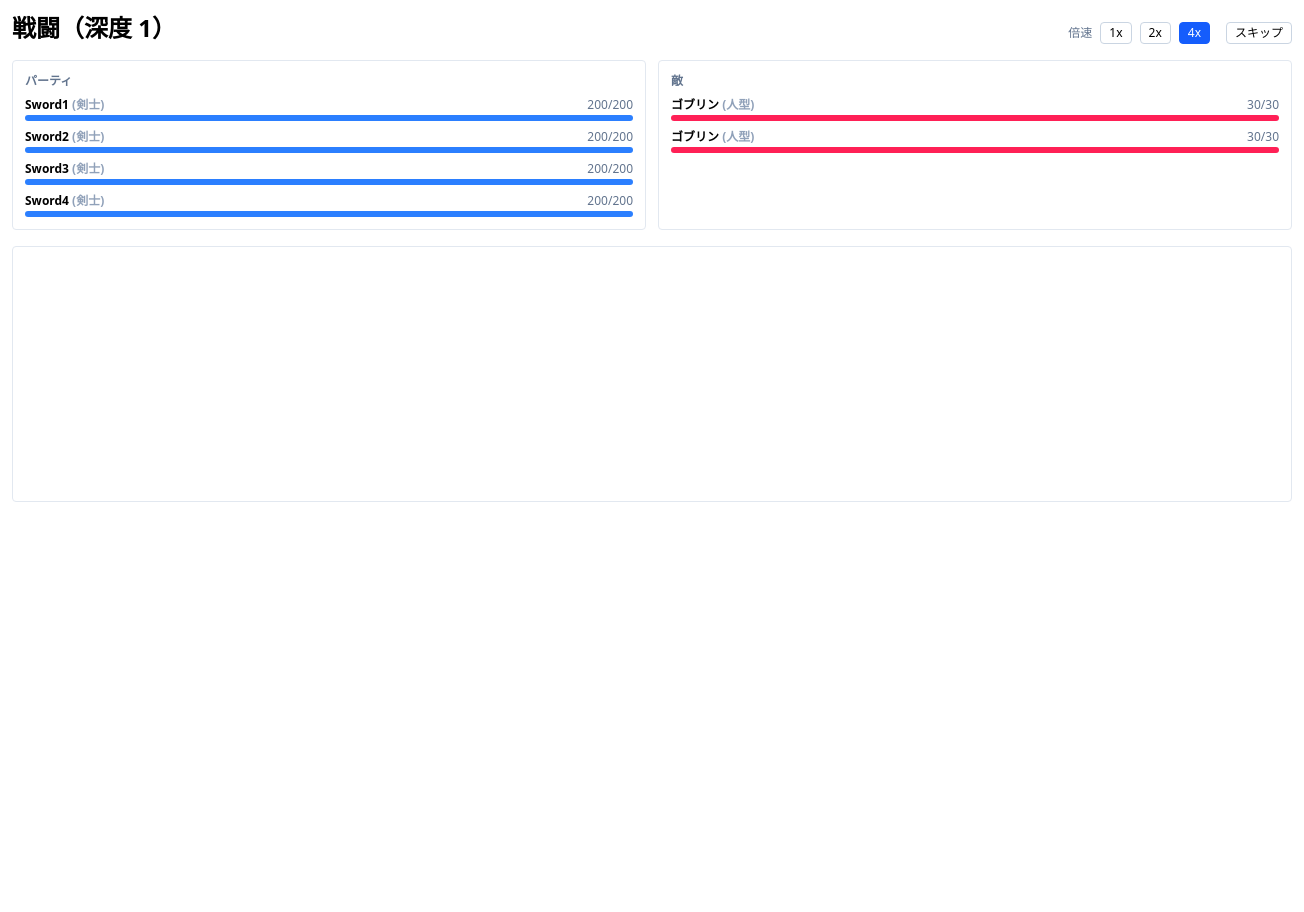
Test: BattleScreen の M3-G-7：勝利後の次の深度へ出撃 › 勝利時は「深度 N+1 へ出撃」と「ホームへ戻る」の両方が出る
Click the button "スキップ".
click(1259, 33)  # box [1226,22,1292,44]
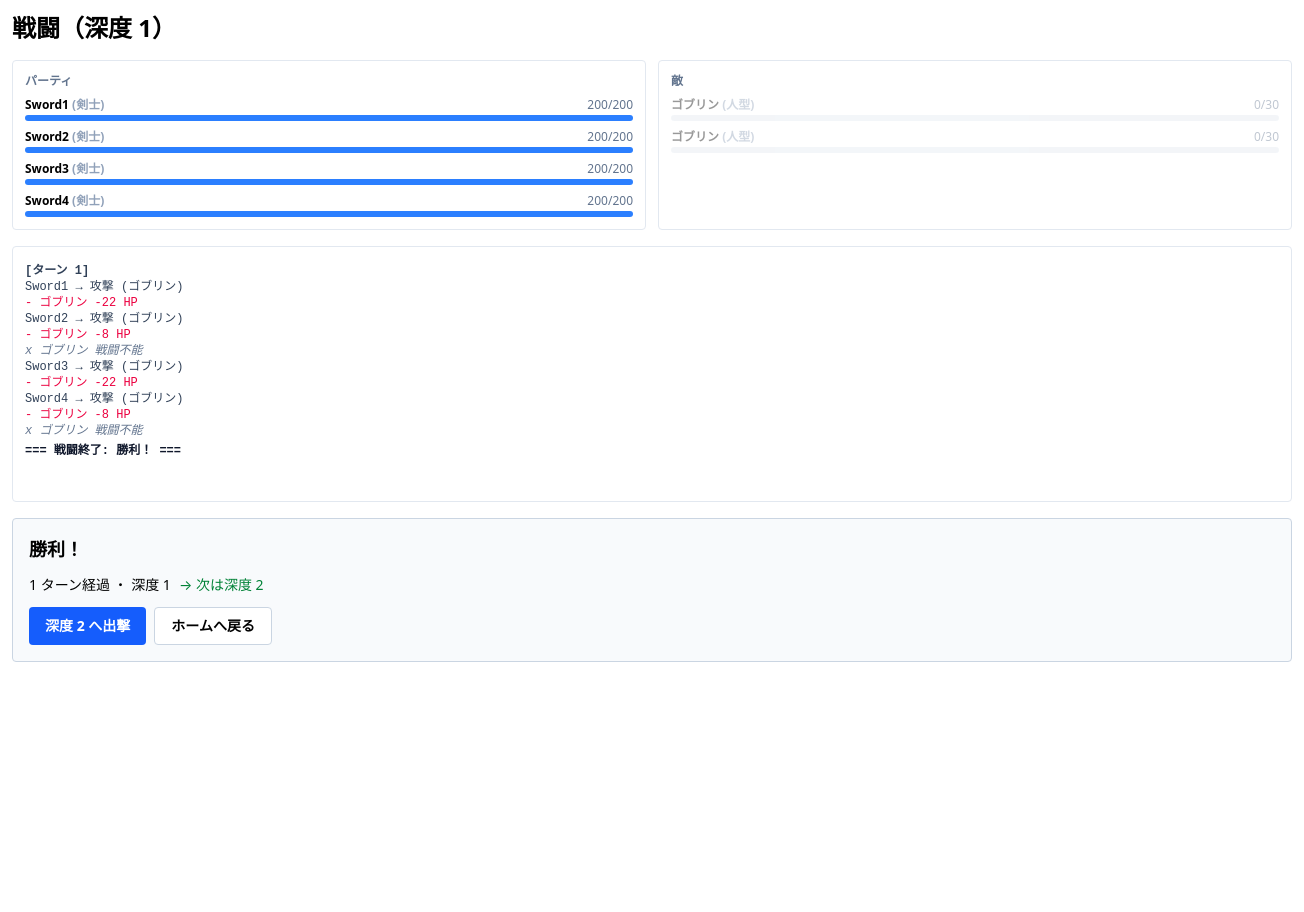
Check: the button "深度 2 へ出撃" is shown, box [29,607,146,645]
Check: the button "ホームへ戻る" is shown, box [154,607,272,645]
